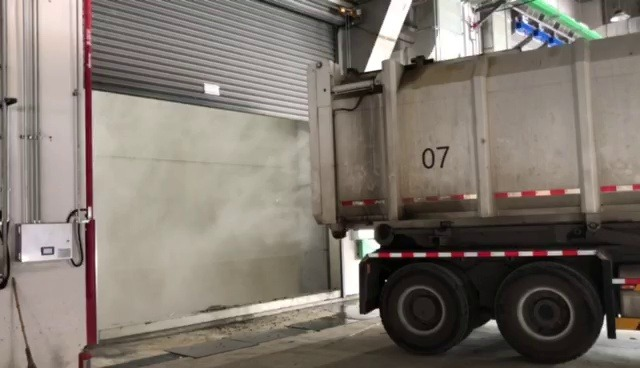dust: (96, 132, 309, 308)
truck: (297, 23, 640, 368)
